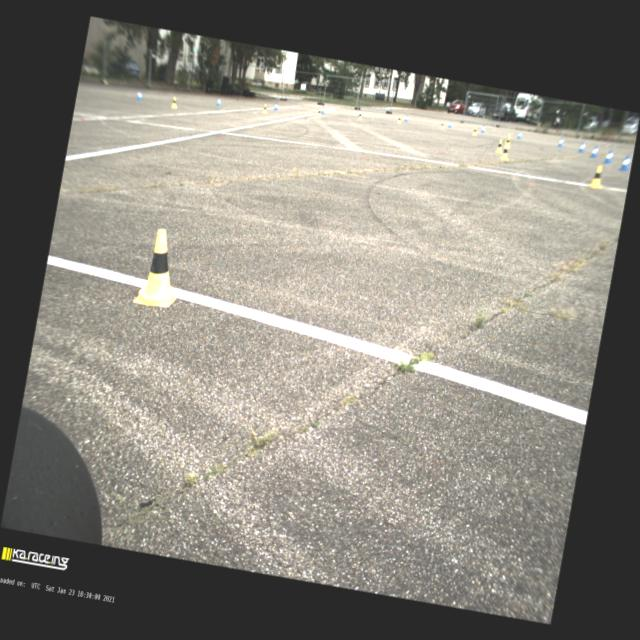blue_cone: (618, 154, 630, 171), (604, 150, 613, 164), (590, 146, 598, 158), (136, 90, 144, 101), (578, 142, 585, 152), (216, 96, 222, 106), (516, 130, 522, 140), (557, 137, 563, 147), (320, 105, 326, 114), (480, 124, 486, 133), (274, 102, 278, 110), (404, 114, 408, 122), (448, 120, 452, 128), (357, 109, 361, 117)
yellow_cone: (132, 226, 189, 310), (588, 164, 604, 189), (494, 138, 504, 154), (500, 144, 510, 160), (504, 134, 512, 148), (170, 95, 178, 108), (504, 132, 512, 144), (262, 103, 268, 113), (316, 107, 322, 117), (472, 126, 478, 136), (396, 115, 402, 124), (440, 120, 444, 129), (358, 111, 362, 120)
